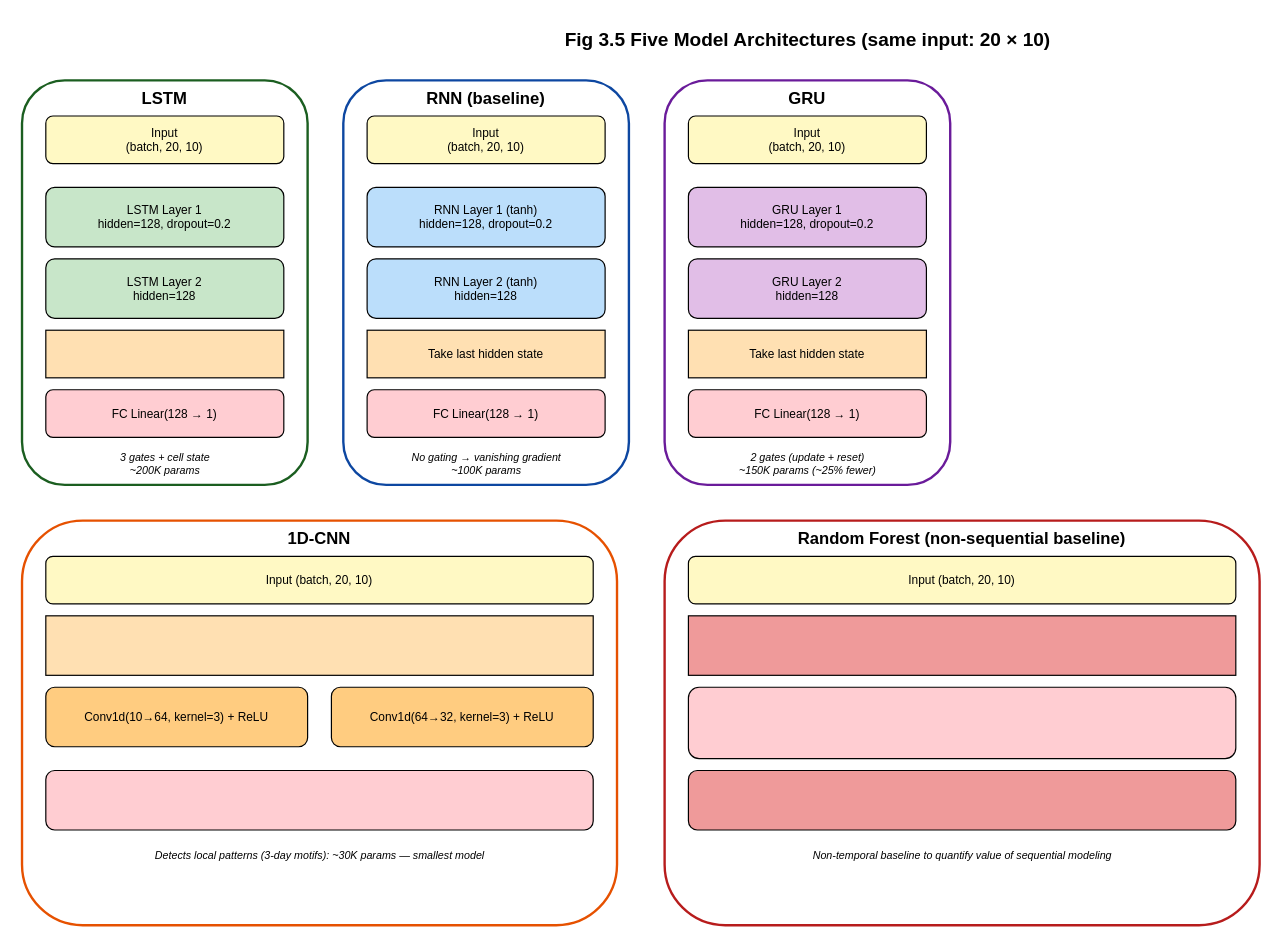
Some shapes in this 1280 by 946 pixel diagram are drawn without their labels. The shapes that lost their labels are listed below. From the top down, each one's centre as x and y in pixels, then its label:
[164,353]: Take last hidden state h_t=20 shape: (128,)
[319,645]: Permute → (batch, 10, 20) (Conv1d expects channels BEFORE length)
[961,645]: FLATTEN → (batch, 200) ⚠ temporal order lost
[961,722]: 100 Decision Trees (scikit-learn) each tree: random feature & sample subset
[319,799]: Flatten + FC Linear → 1
[961,799]: Average predictions across 100 trees → scalar output
